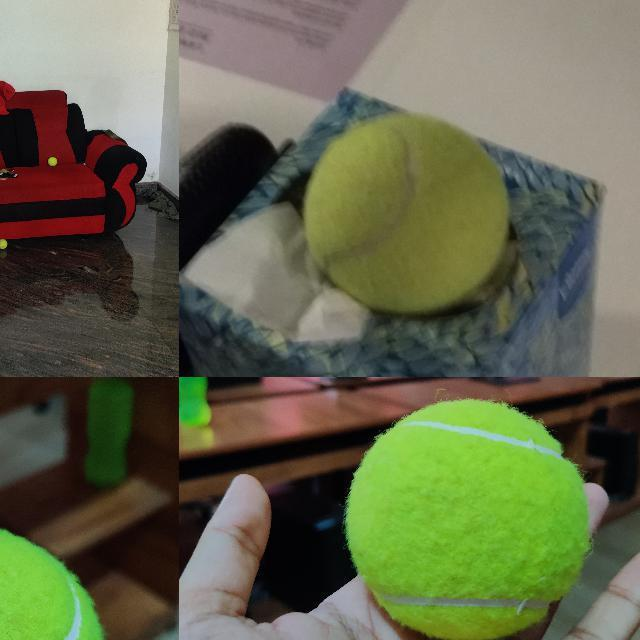tennis-ball: (345, 400, 590, 639), (301, 111, 511, 313), (0, 526, 102, 639), (47, 157, 57, 166), (0, 239, 8, 250)
